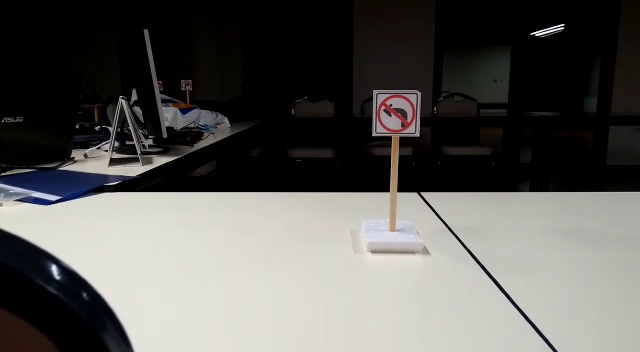sola_donulmez: (372, 93, 420, 137)
